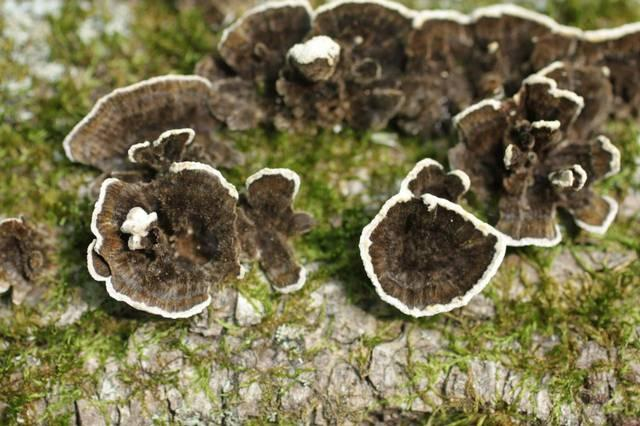poisonous_mushroom: (41, 0, 635, 238), (85, 127, 242, 319), (357, 156, 507, 318), (236, 166, 315, 294)
